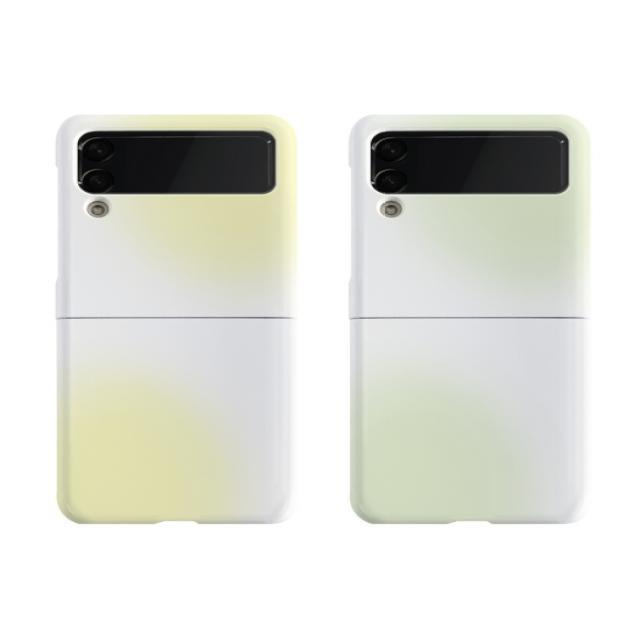phone: (347, 114, 592, 524), (56, 114, 296, 524)
